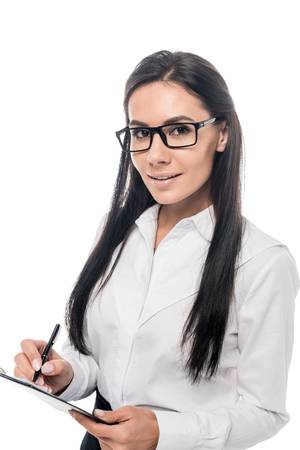F_shirt: (49, 204, 297, 450)
